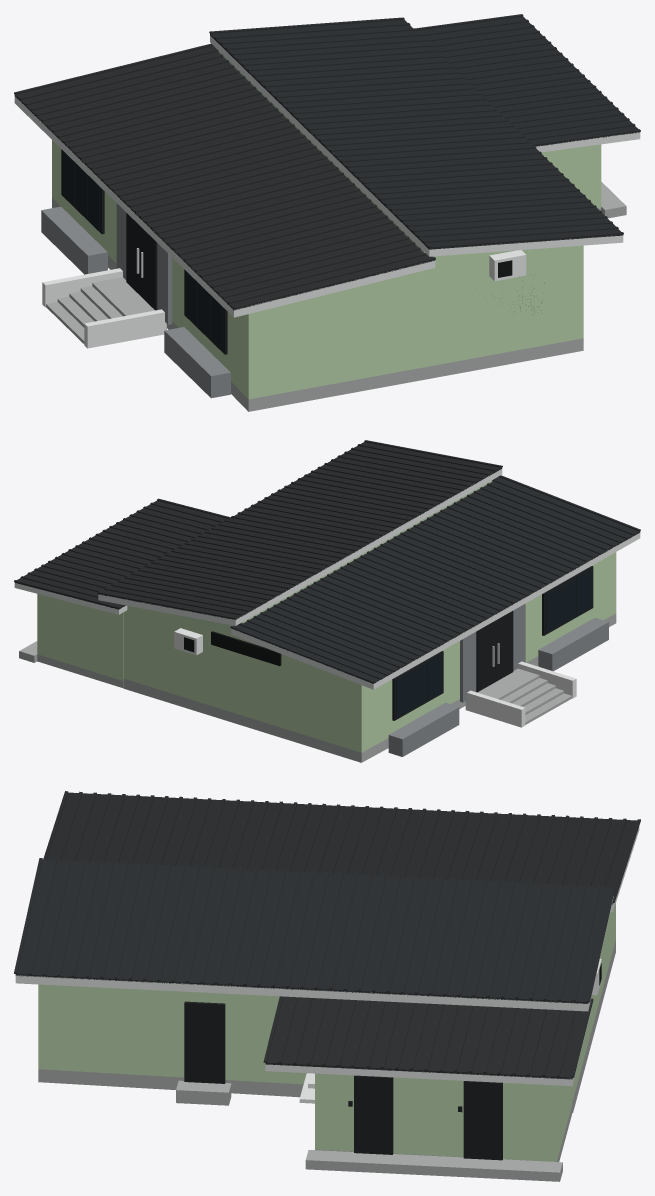
File: rares_mini_conference_hall.glb
3 renders of one model, top to bottom at view 1: azimuth 30°, elevation 25°; view 2: azimuth 150°, elevation 25°; view 3: azimuth 270°, elevation 25°, orthographic. The views are drawn at different scales.
Parts seen in each view (by area): view 1: Roof_Front_Deck, Main_Walls, Roof_Rear_Deck, Roof_Front_Ribs, Roof_Rear_Ribs, Roof_CR_Deck, Roof_CR_Ribs, Main_Plinth, Roof_Front_Fascia, Roof_Rear_Fascia, Front_Planter_0, Front_Planter_1 (+13 smaller); view 2: Roof_Front_Deck, Main_Walls, Roof_Rear_Deck, Roof_Front_Ribs, Roof_Rear_Ribs, Roof_CR_Deck, CR_Walls, Roof_CR_Ribs, Main_Plinth, Roof_Front_Fascia, Roof_Rear_Fascia, Front_Door_Frame (+20 smaller); view 3: Roof_Rear_Deck, Roof_Front_Deck, Roof_Rear_Ribs, Main_Walls, Roof_CR_Deck, CR_Walls, Roof_Front_Ribs, Roof_CR_Ribs, CR_Apron, Roof_Rear_Fascia, Main_Plinth, East_RearDoor_Frame (+4 smaller).
Part boxes in pixels (<box>): Roof_Front_Deck: <box>14,46,434,310</box>; Main_Walls: <box>52,140,583,399</box>; Roof_Rear_Deck: <box>210,20,623,249</box>; Roof_Front_Ribs: <box>14,43,435,309</box>; Roof_Rear_Ribs: <box>209,17,623,248</box>; Roof_CR_Deck: <box>416,16,639,146</box>; Roof_CR_Ribs: <box>415,14,640,145</box>; Main_Plinth: <box>52,198,583,411</box>; Roof_Front_Fascia: <box>14,96,435,317</box>; Roof_Rear_Fascia: <box>210,35,623,256</box>; Front_Planter_0: <box>164,327,230,398</box>; Front_Planter_1: <box>41,206,107,274</box>; Roof_Front_Deck: <box>231,476,640,683</box>; Main_Walls: <box>123,552,616,752</box>; Roof_Rear_Deck: <box>98,442,502,620</box>; Roof_Front_Ribs: <box>230,475,640,682</box>; Roof_Rear_Ribs: <box>97,440,502,619</box>; Roof_CR_Deck: <box>14,500,227,609</box>; CR_Walls: <box>37,594,123,680</box>; Roof_CR_Ribs: <box>14,498,230,608</box>; Main_Plinth: <box>123,613,616,762</box>; Roof_Front_Fascia: <box>231,533,640,689</box>; Roof_Rear_Fascia: <box>98,469,502,625</box>; Front_Door_Frame: <box>476,611,513,692</box>; Roof_Rear_Deck: <box>15,859,611,1003</box>; Roof_Front_Deck: <box>47,792,636,904</box>; Roof_Rear_Ribs: <box>14,858,615,1002</box>; Main_Walls: <box>38,903,615,1099</box>; Roof_CR_Deck: <box>265,996,586,1079</box>; CR_Walls: <box>315,1073,572,1161</box>; Roof_Front_Ribs: <box>43,791,640,902</box>; Roof_CR_Ribs: <box>263,996,593,1077</box>; CR_Apron: <box>305,1150,562,1181</box>; Roof_Rear_Fascia: <box>15,896,613,1011</box>; Main_Plinth: <box>38,940,615,1112</box>; East_RearDoor_Frame: <box>184,1001,225,1083</box>.
Size of the model in its own units: 16.63 by 3.94 by 15.31.
